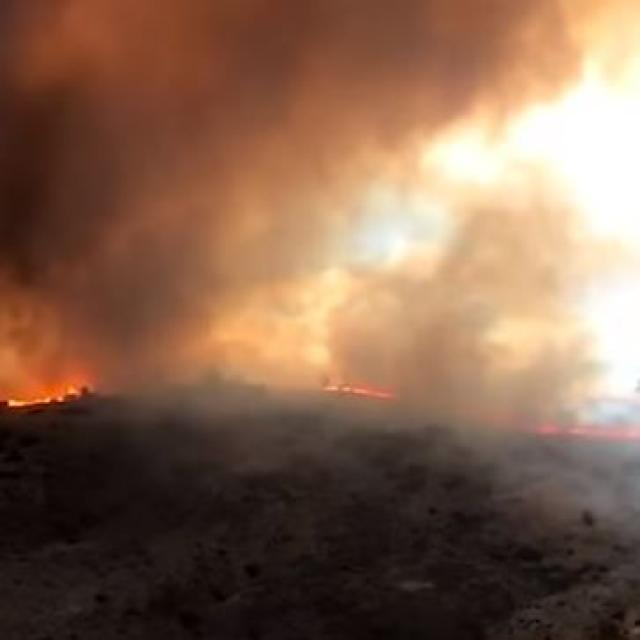Smoke: (0, 0, 621, 429)
